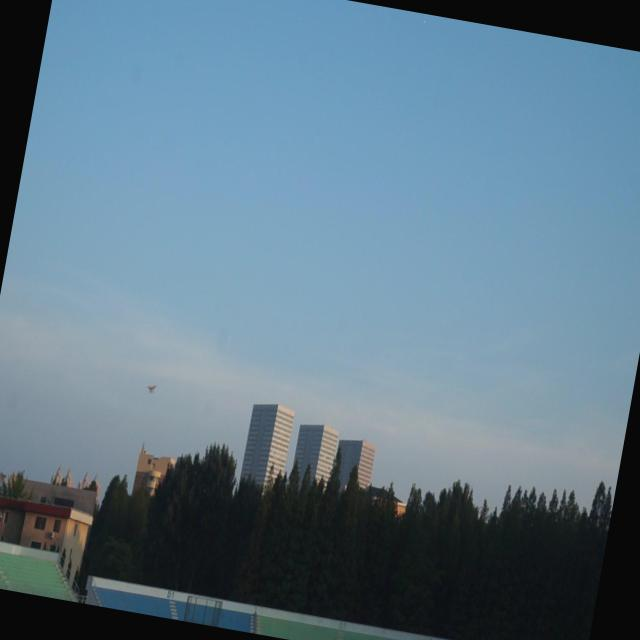drone: (142, 377, 158, 399)
